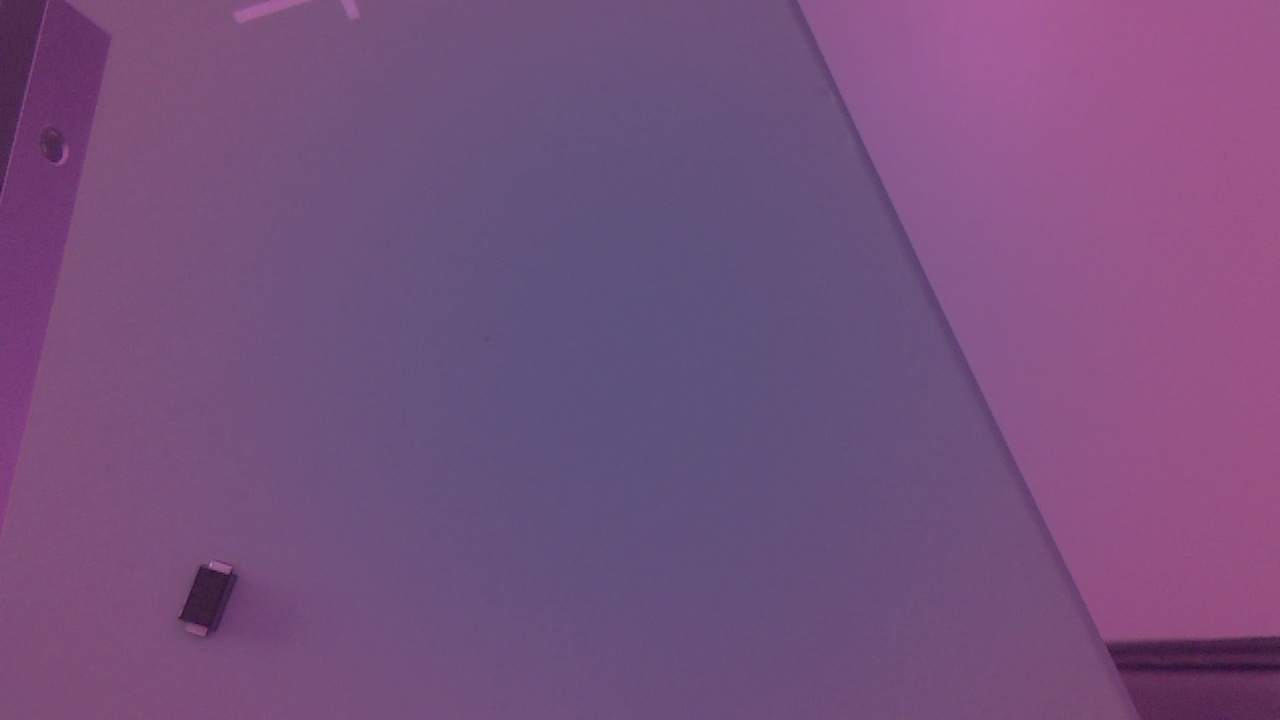Diode: (179, 558, 249, 647)
